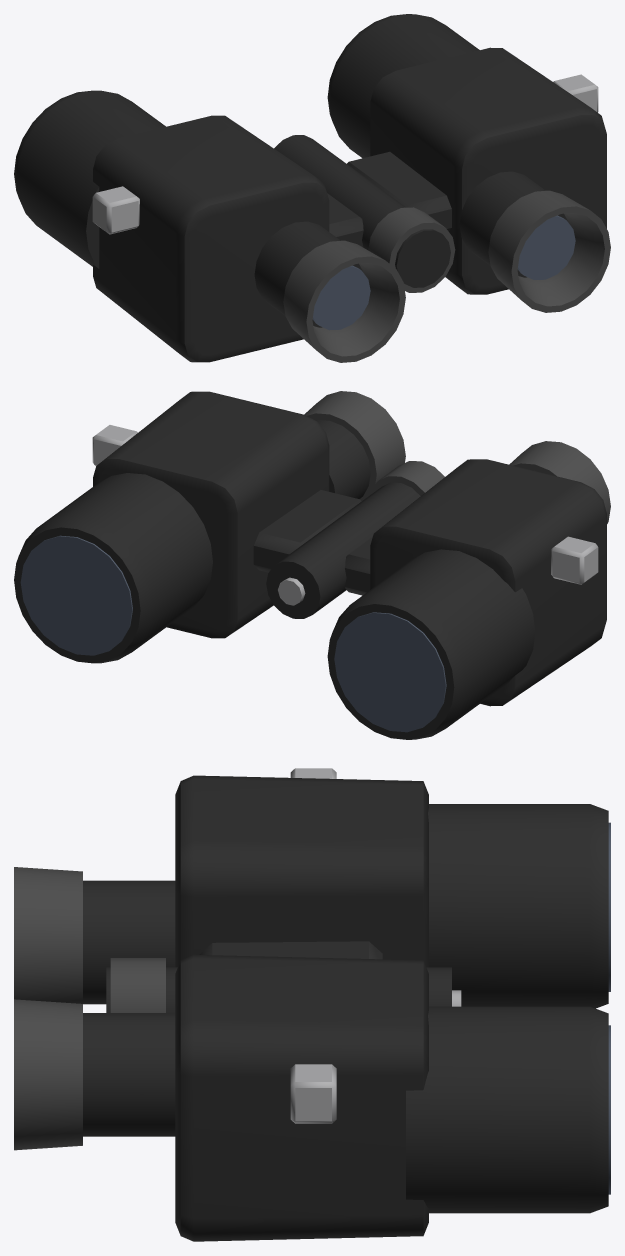
Rendered from binoculars.glb.
The picture shows the model from 3 angles, top to bottom: view 1: azimuth 30°, elevation 25°; view 2: azimuth 150°, elevation 25°; view 3: azimuth 270°, elevation 25°; orthographic projection. The views are drawn at different scales.
Parts seen in each view (by area): view 1: body; view 2: body; view 3: body.
Part boxes in pixels (x1,y1,x2,y2): body: [14, 14, 610, 362]; body: [14, 391, 610, 739]; body: [14, 768, 610, 1241].
Bounding box in the file's own units: 0.163 × 0.052 × 0.1295.
